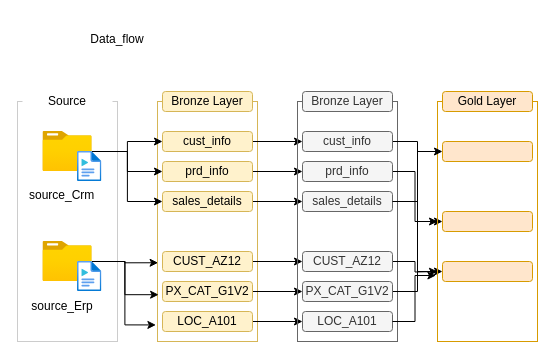
Image size: 555x359. Some labels were removed from this diagram. The shapes that lost their labels are listed below. From the top down, each one's centre as x and y in pixels, then its label:
(487,151): fact_sales
(487,221): dim_products
(487,271): dim_customers
